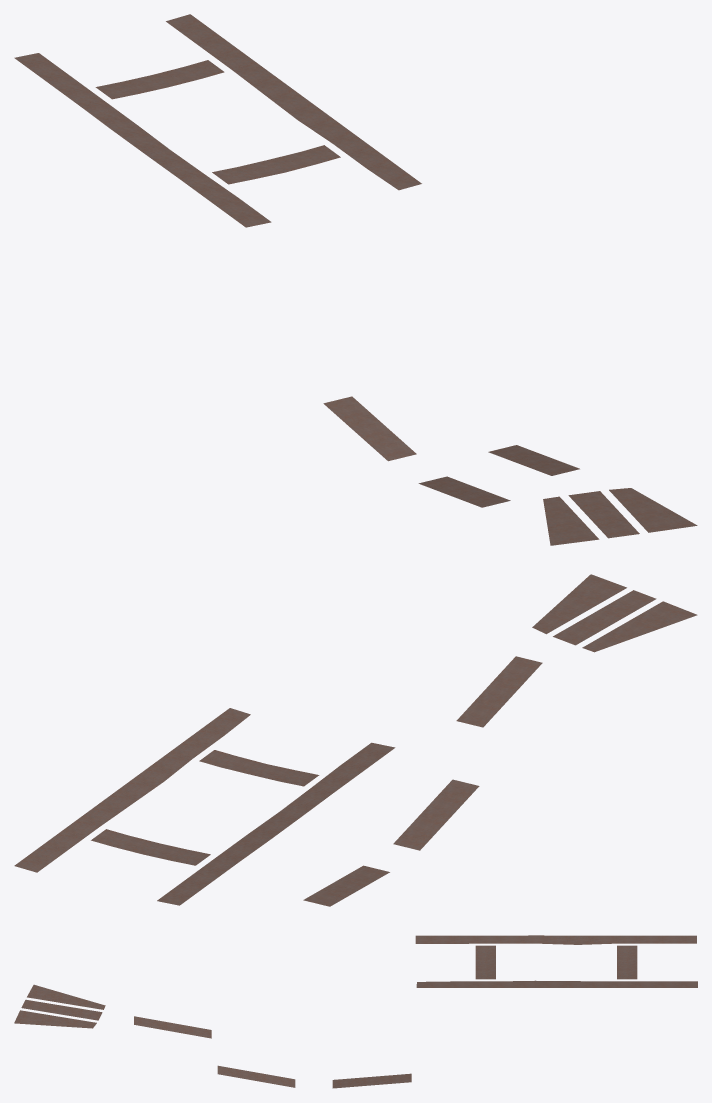
The model's file is SM_NeoLD_00_WireMesh_00.fbx.
3 views of the same model, one above another, from view 1: azimuth 30°, elevation 25°; view 2: azimuth 150°, elevation 25°; view 3: azimuth 270°, elevation 25° (orthographic). The views are drawn at different scales.
Parts seen in each view (by area): view 1: SM_NeoLD_00_WireMesh_00; view 2: SM_NeoLD_00_WireMesh_00; view 3: SM_NeoLD_00_WireMesh_00.
Boxes of the visible parts, x1,y1,x2,y2 form: SM_NeoLD_00_WireMesh_00: [14, 14, 697, 545]; SM_NeoLD_00_WireMesh_00: [14, 574, 697, 906]; SM_NeoLD_00_WireMesh_00: [14, 935, 697, 1088].
Bounding box in the file's own units: 1303 × 1343 × 6798.
